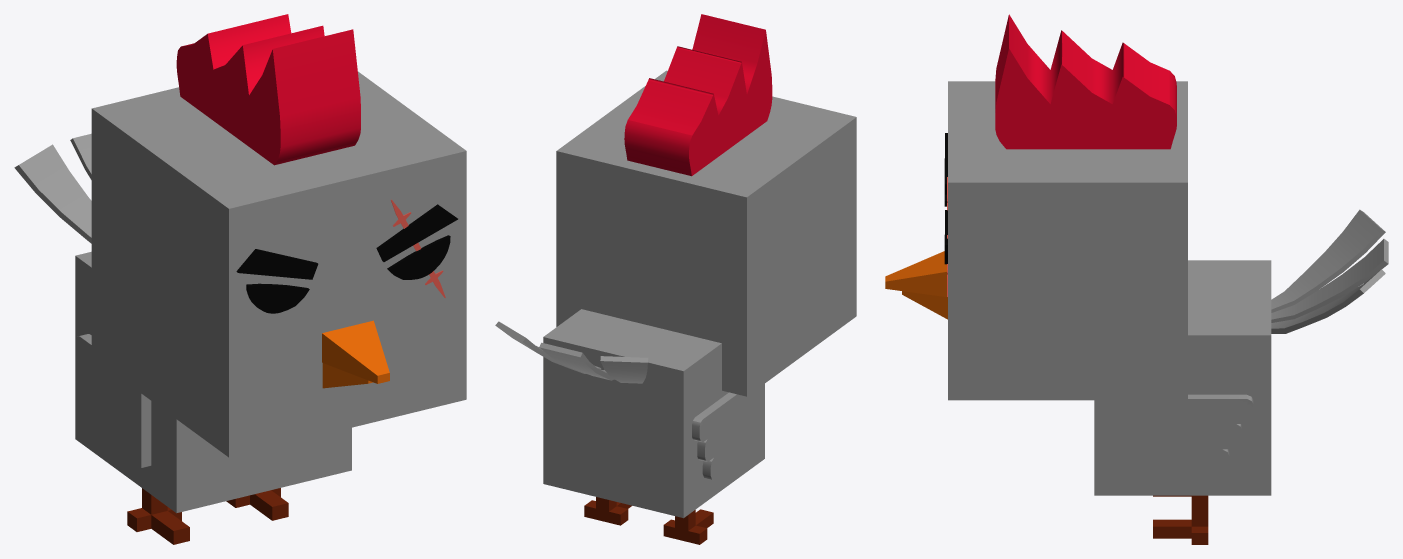
The model's file is Lv03_Ggoboong.fbx.
3 views of the same model, side by side, from view 1: azimuth 30°, elevation 25°; view 2: azimuth 150°, elevation 25°; view 3: azimuth 270°, elevation 25° (orthographic). The views are drawn at different scales.
Visible parts, largest first — view 1: polySurface4, pCube17, polySurface12, polySurface10, pCube14, polySurface13, polySurface6, polySurface9, polySurface14, pCube15, pCube16, polySurface11 (+2 smaller); view 2: polySurface4, polySurface12, pCube17, polySurface10, polySurface6, pCube14, pCube12, polySurface11, pCube13; view 3: polySurface4, polySurface12, pCube17, polySurface7, pCube14, pCube12, polySurface13, polySurface11, pCube13, polySurface3.
Boxes of the visible parts, <box> form: polySurface4: <box>91,71,466,457</box>; pCube17: <box>176,14,360,165</box>; polySurface12: <box>75,251,351,513</box>; polySurface10: <box>75,334,151,467</box>; pCube14: <box>14,144,91,243</box>; polySurface13: <box>322,320,389,383</box>; polySurface6: <box>127,488,189,544</box>; polySurface9: <box>376,204,457,261</box>; polySurface14: <box>236,249,318,279</box>; pCube15: <box>387,235,450,279</box>; pCube16: <box>246,283,309,313</box>; polySurface11: <box>226,488,288,520</box>; polySurface4: <box>556,70,856,396</box>; polySurface12: <box>543,309,764,518</box>; pCube17: <box>624,14,772,176</box>; polySurface10: <box>692,392,752,480</box>; polySurface6: <box>663,509,713,544</box>; pCube14: <box>600,356,648,383</box>; pCube12: <box>539,342,614,380</box>; polySurface11: <box>584,497,631,525</box>; pCube13: <box>495,321,601,373</box>; polySurface4: <box>948,81,1187,400</box>; polySurface12: <box>1094,260,1271,495</box>; pCube17: <box>995,14,1176,149</box>; polySurface7: <box>1138,394,1253,474</box>; pCube14: <box>1271,209,1385,312</box>; pCube12: <box>1271,239,1388,322</box>; polySurface13: <box>885,251,947,297</box>; polySurface11: <box>1153,495,1208,544</box>; pCube13: <box>1271,269,1385,333</box>; polySurface3: <box>902,291,947,319</box>.
Bounding box in the file's own units: 15.53 × 34.47 × 32.56.
